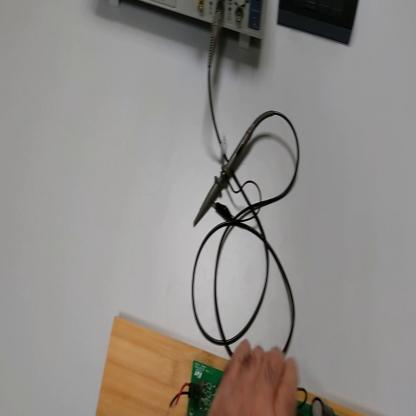hand: (209, 338, 300, 414)
high voltage board: (171, 361, 333, 416)
oscilloscope: (108, 2, 270, 49)
oscilloscope probe tip: (192, 98, 276, 232)
working area: (94, 314, 366, 416)
